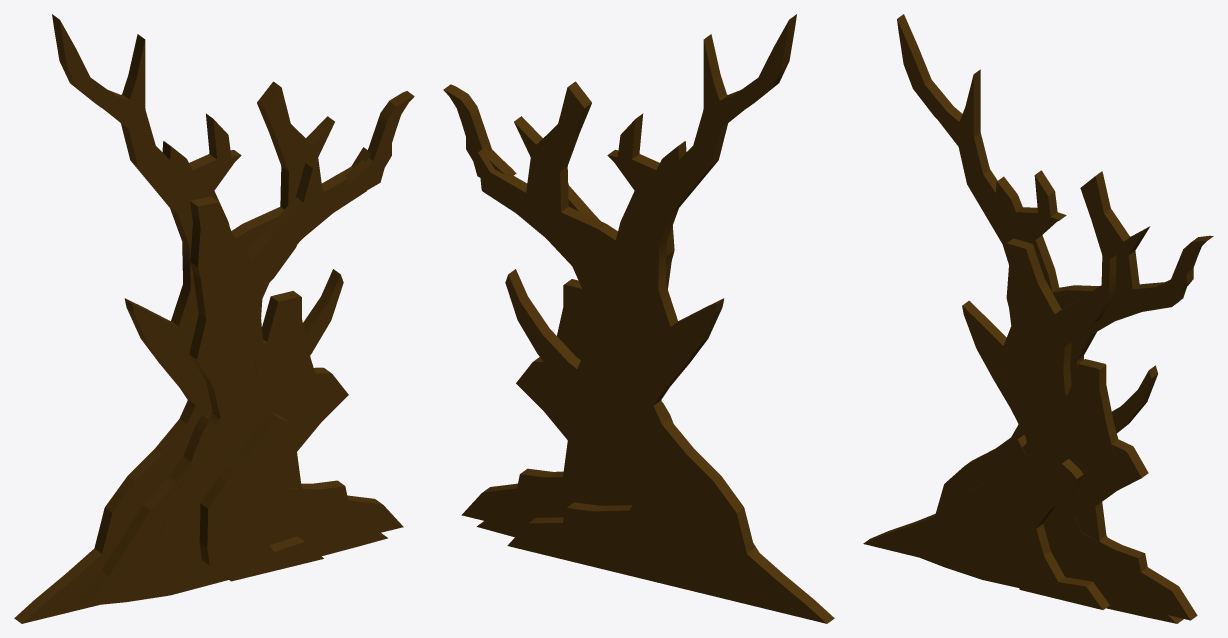
File: tree4.fbx
The picture shows the model from 3 angles, left to right: view 1: azimuth 30°, elevation 25°; view 2: azimuth 150°, elevation 25°; view 3: azimuth 330°, elevation 25°; orthographic projection. The views are drawn at different scales.
Parts seen in each view (by area): view 1: polySurface21, polySurface24, polySurface22, polySurface26, polySurface25; view 2: polySurface21, polySurface24, polySurface22, polySurface25; view 3: polySurface21, polySurface22, polySurface24, polySurface26, polySurface25.
Boxes of the visible parts, x1=… form: polySurface21: x1=14, y1=14, x2=370, y2=623; polySurface24: x1=78, y1=163, x2=387, y2=606; polySurface22: x1=101, y1=291, x2=403, y2=600; polySurface26: x1=199, y1=412, x2=323, y2=581; polySurface25: x1=345, y1=91, x2=414, y2=190; polySurface21: x1=478, y1=14, x2=834, y2=623; polySurface24: x1=476, y1=183, x2=758, y2=551; polySurface22: x1=461, y1=279, x2=673, y2=521; polySurface25: x1=443, y1=84, x2=516, y2=177; polySurface21: x1=863, y1=14, x2=1177, y2=557; polySurface22: x1=920, y1=359, x2=1197, y2=620; polySurface24: x1=906, y1=238, x2=1183, y2=623; polySurface26: x1=998, y1=458, x2=1109, y2=609; polySurface25: x1=1148, y1=235, x2=1213, y2=304.
Size of the model in its own units: 8.76 by 12.83 by 0.9716.
